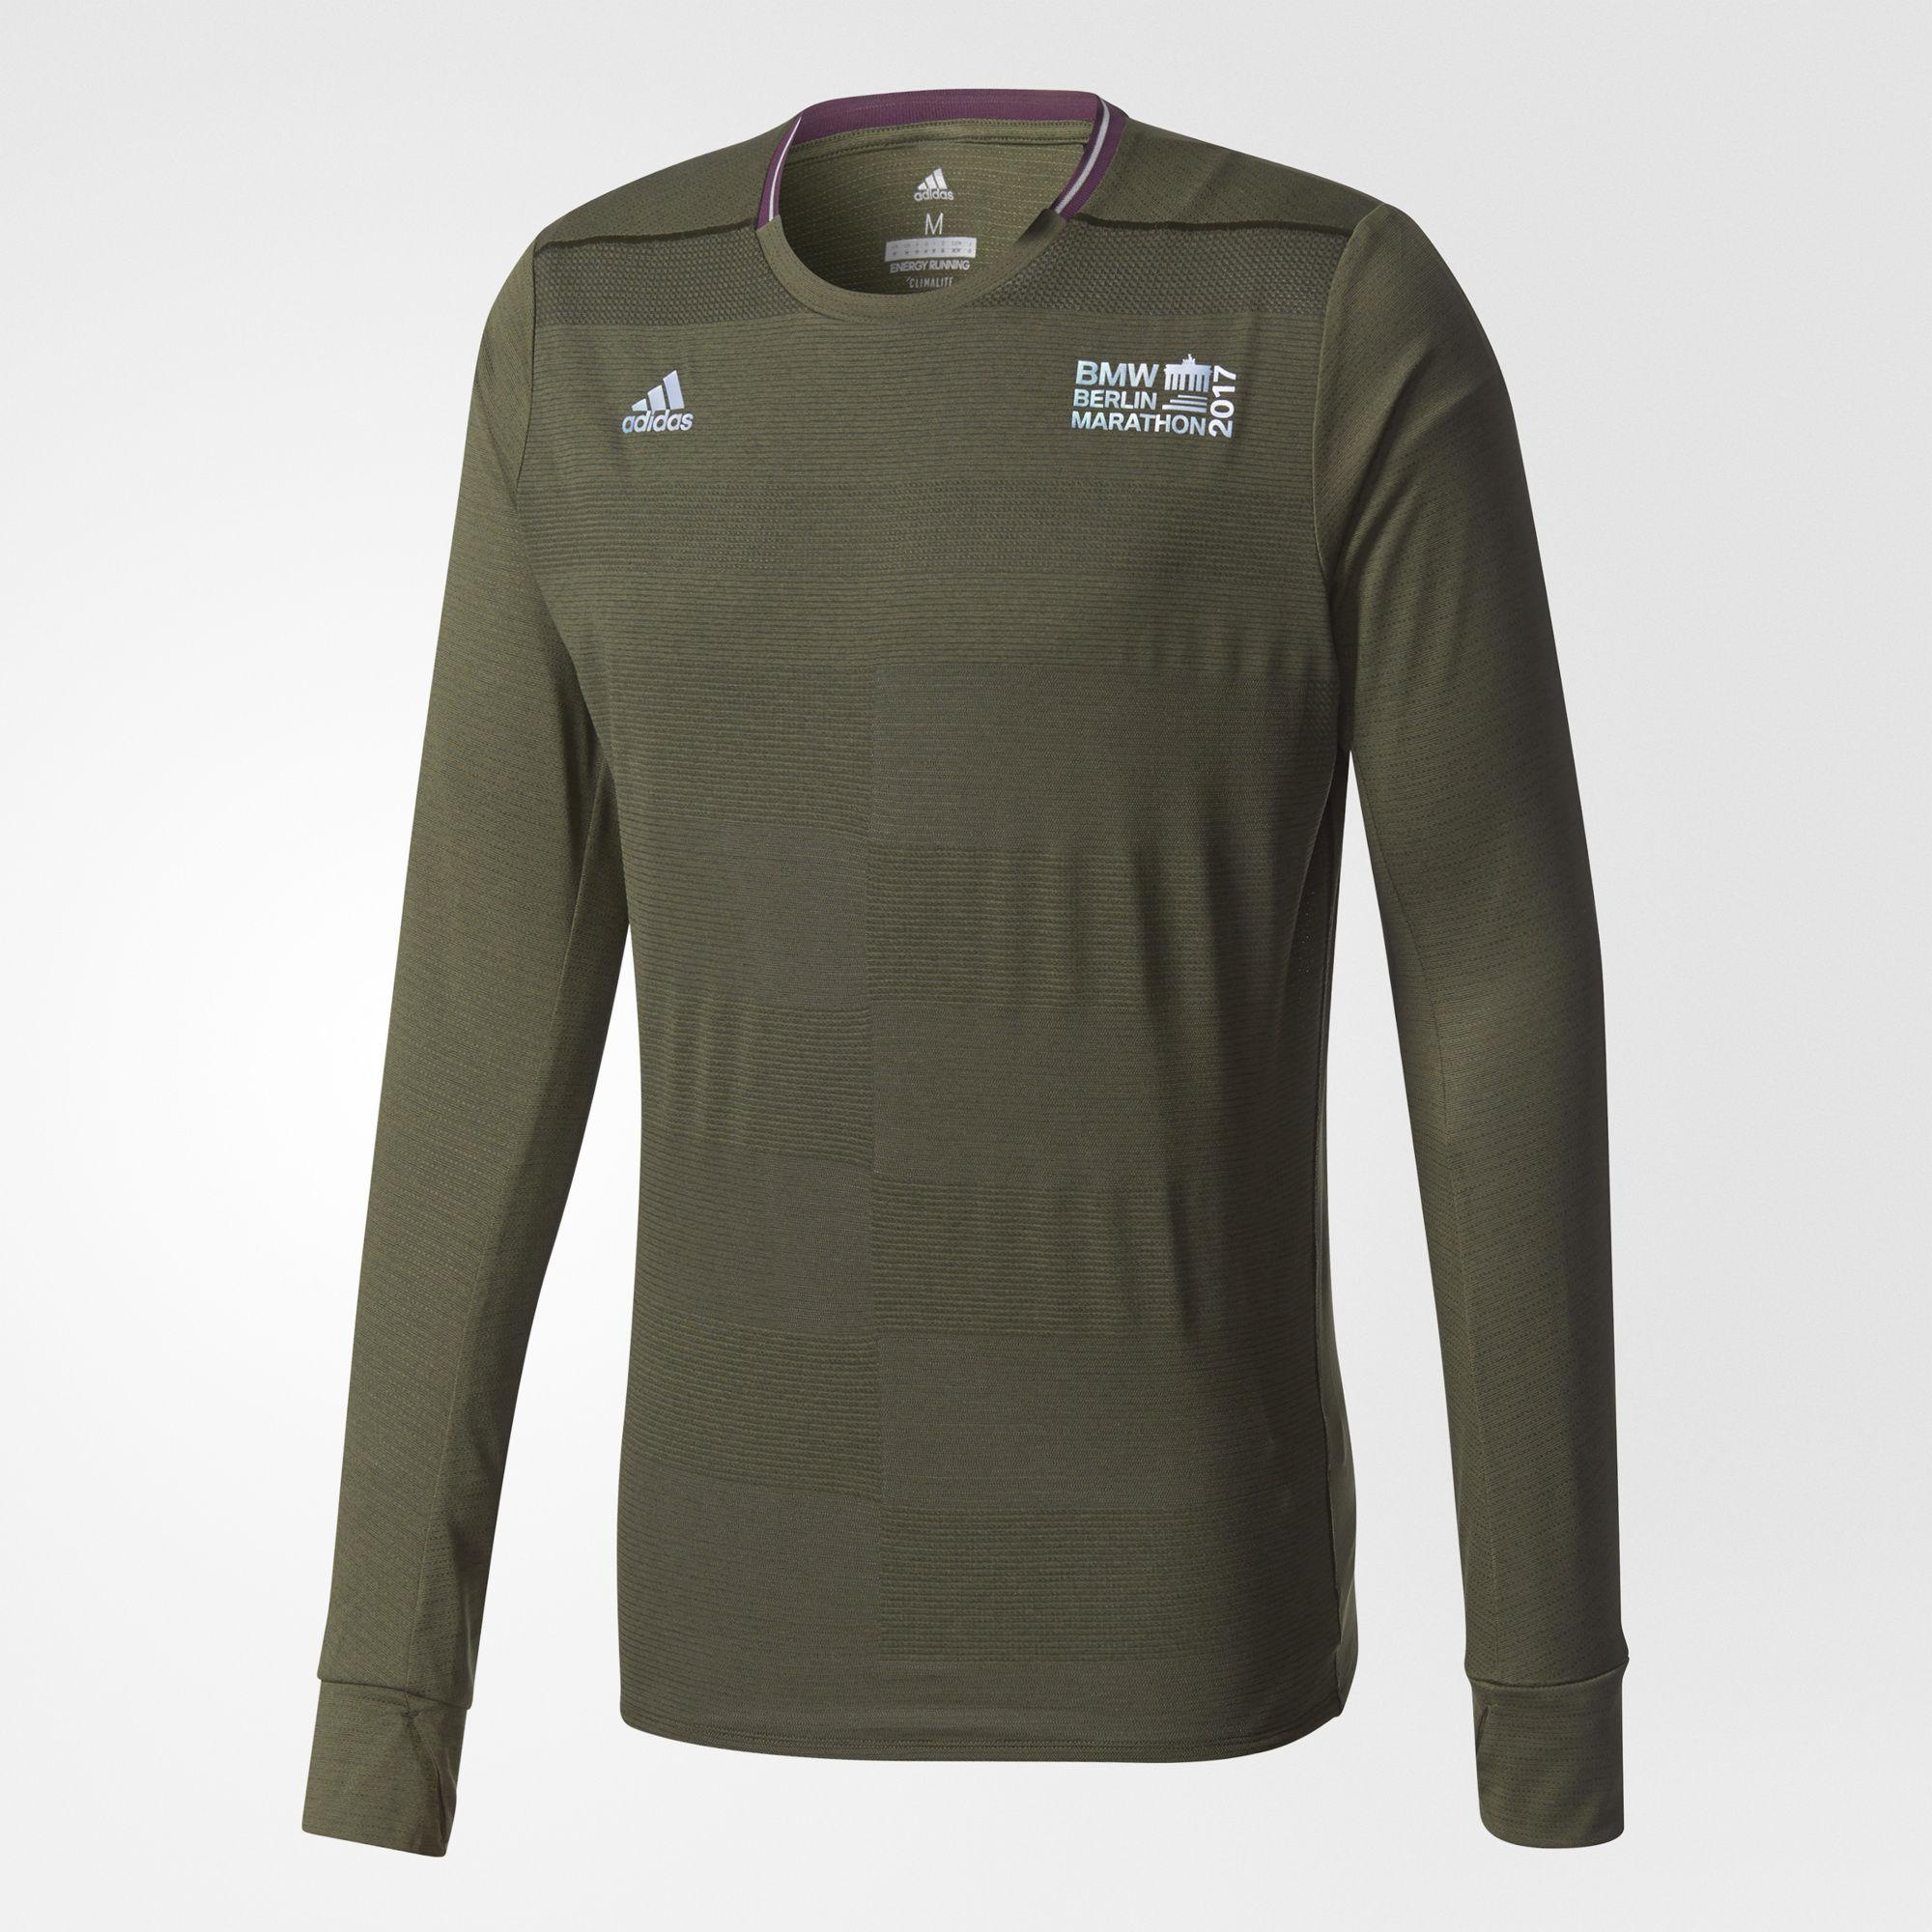teeshirt: (212, 78, 1702, 1905)
